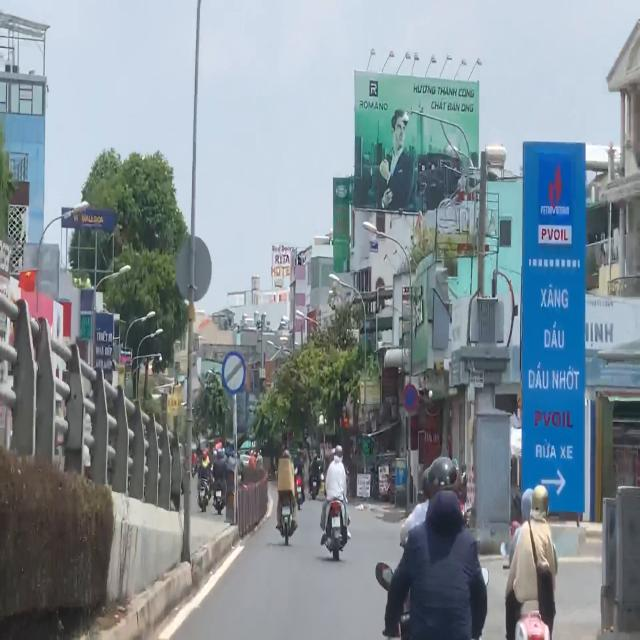Cam do: (403, 384, 418, 412)
Het tat ca lenh cam: (221, 351, 246, 395)
